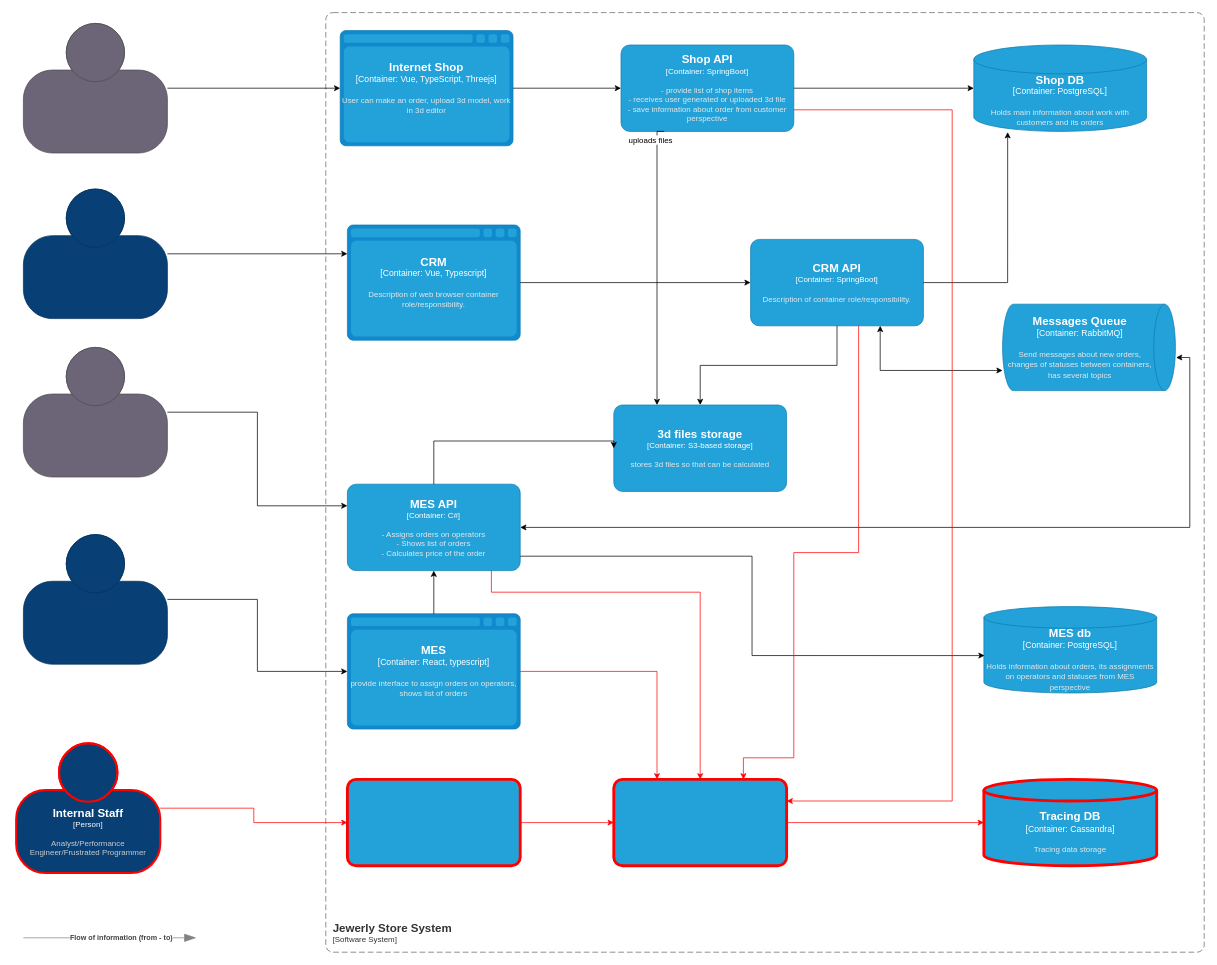
This 1217x965 diagram has some shape labels left out. The centre of each missing label's shape, as x and y in pixels:
"API user [Person] Description of external person." belongs at point (95, 412).
"Customer [Person] Description of external person." belongs at point (95, 88).
"Monitoring [Container: Grafana] Monitoring service" belongs at point (433, 822).
"Operator [Person] Takes order in work, manufactures jewerly" belongs at point (95, 599).
"Seller [Person] Operates with order, confirms manufacturing for the user" belongs at point (95, 253).
"Tracing Backend [Container: Jaeger] Distributed Tracing service" belongs at point (700, 822).
